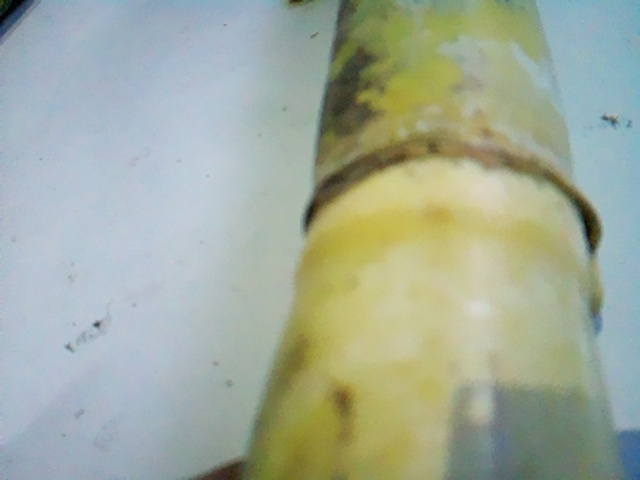Good Sugarcane: (231, 0, 602, 474)
Node: (290, 120, 605, 264)
